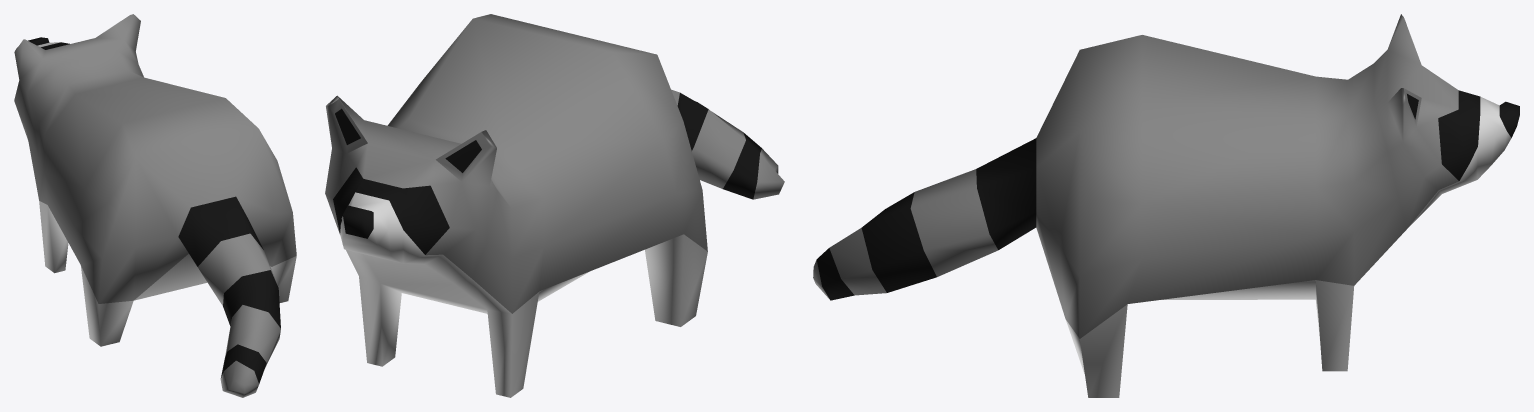
Rendered from raccoon1.fbx.
The picture shows the model from 3 angles, left to right: view 1: azimuth 30°, elevation 25°; view 2: azimuth 150°, elevation 25°; view 3: azimuth 270°, elevation 25°; orthographic projection. The views are drawn at different scales.
Parts seen in each view (by area): view 1: pCube28; view 2: pCube28; view 3: pCube28.
Boxes of the visible parts, bbox=[...] form: pCube28: bbox=[14, 14, 296, 397]; pCube28: bbox=[325, 14, 784, 397]; pCube28: bbox=[813, 14, 1519, 397].
Size of the model in its own units: 0.7326 by 0.7518 by 1.68.
Materials: 1 (1 with a texture image).
